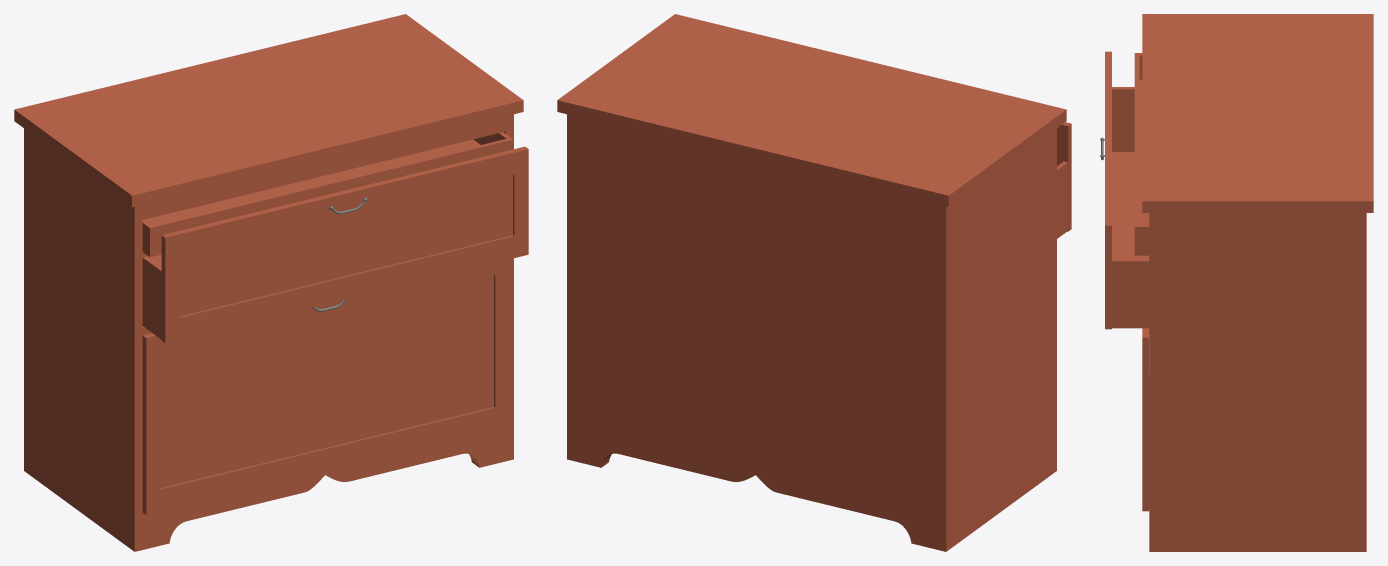
Rendered from IKEA-Aspelund_Chest_of_2_drawers-3D.obj.
3 views of the same model, side by side, from view 1: azimuth 30°, elevation 25°; view 2: azimuth 150°, elevation 25°; view 3: azimuth 270°, elevation 25° (orthographic).
Parts seen in each view (by area): view 1: Box01, Object01, Object03, Object02; view 2: Box01, Object03; view 3: Box01, Object03, Object02, Object01.
Boxes of the visible parts, bbox=[...] form: Box01: bbox=[14, 14, 523, 551]; Object01: bbox=[142, 259, 509, 514]; Object03: bbox=[142, 146, 528, 343]; Object02: bbox=[142, 132, 513, 257]; Box01: bbox=[557, 14, 1066, 551]; Object03: bbox=[1057, 122, 1071, 238]; Box01: bbox=[1142, 14, 1373, 551]; Object03: bbox=[1105, 51, 1149, 329]; Object02: bbox=[1134, 53, 1149, 255]; Object01: bbox=[1142, 328, 1149, 511].
Bounding box in the file's own units: 2282 × 2007 × 1405.
